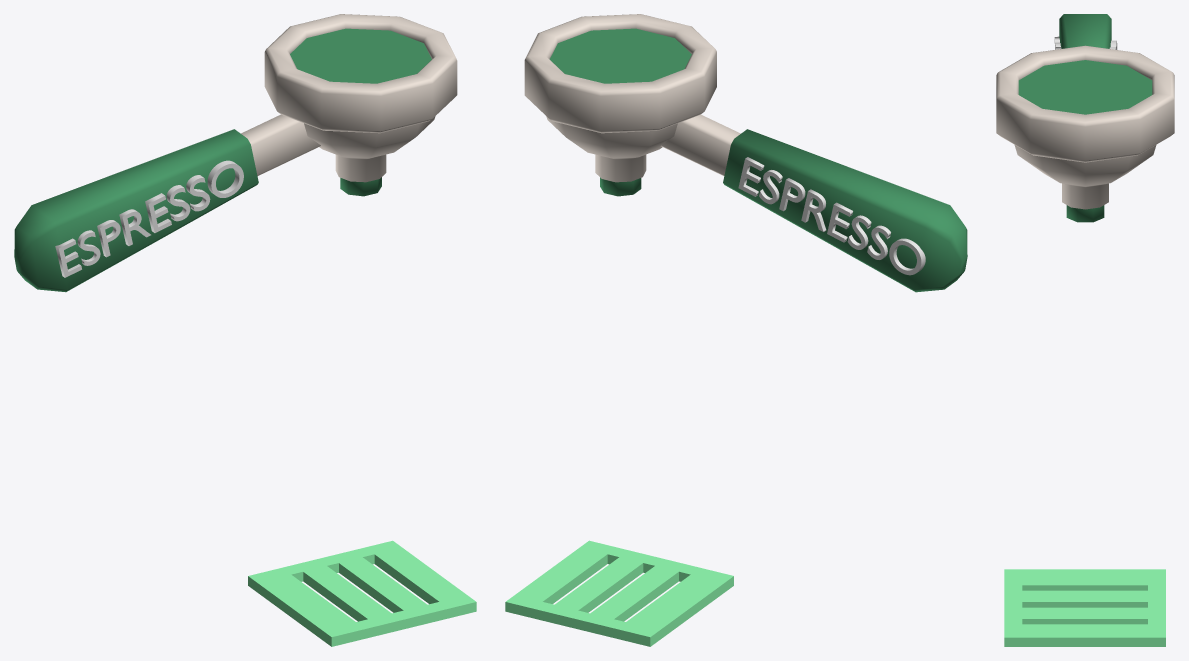
File: Coffee_Machine1.fbx
The picture shows the model from 3 angles, left to right: view 1: azimuth 30°, elevation 25°; view 2: azimuth 150°, elevation 25°; view 3: azimuth 270°, elevation 25°; orthographic projection. The views are drawn at different scales.
Parts seen in each view (by area): view 1: Cylinder.002, Cylinder, coffee machine ızgara, Text.004; view 2: Cylinder.002, Cylinder, coffee machine ızgara, Text.001; view 3: Cylinder, coffee machine ızgara, Cylinder.002.
Boxes of the visible parts, <box> form: Cylinder.002: <box>14,28,431,292</box>; Cylinder: <box>241,14,457,182</box>; coffee machine ızgara: <box>248,540,476,646</box>; Text.004: <box>55,160,243,277</box>; Cylinder.002: <box>549,28,967,292</box>; Cylinder: <box>524,14,740,182</box>; coffee machine ızgara: <box>505,540,733,646</box>; Text.001: <box>738,157,925,275</box>; Cylinder: <box>996,45,1174,209</box>; coffee machine ızgara: <box>1004,569,1165,646</box>; Cylinder.002: <box>1018,14,1152,222</box>.
Size of the model in its own units: 0.3263 by 0.3984 by 0.1217.
